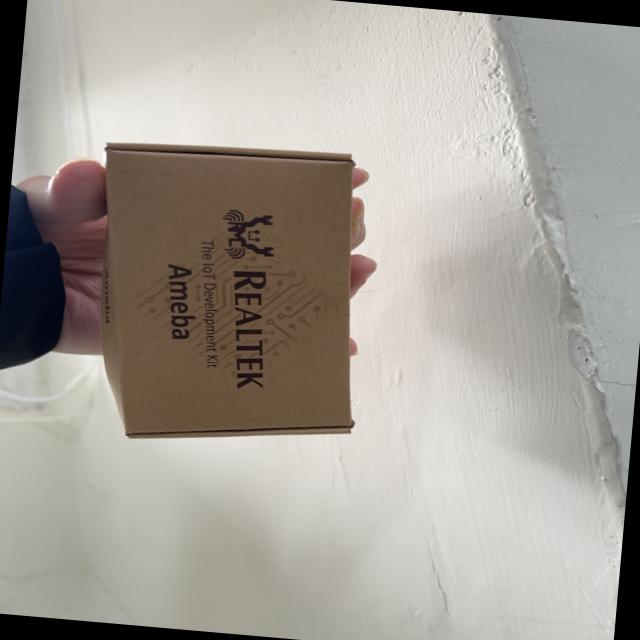box: (70, 132, 391, 464)
